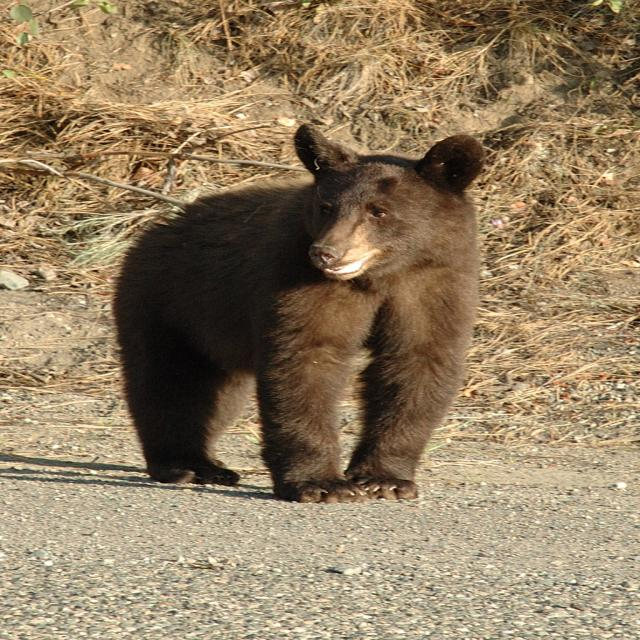Cheetahs: (107, 123, 487, 504)
